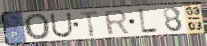8: (161, 6, 184, 33)
L: (137, 8, 160, 36)
O: (23, 13, 52, 41)
R: (102, 9, 131, 37)
T: (78, 10, 100, 37)
U: (49, 11, 75, 39)
